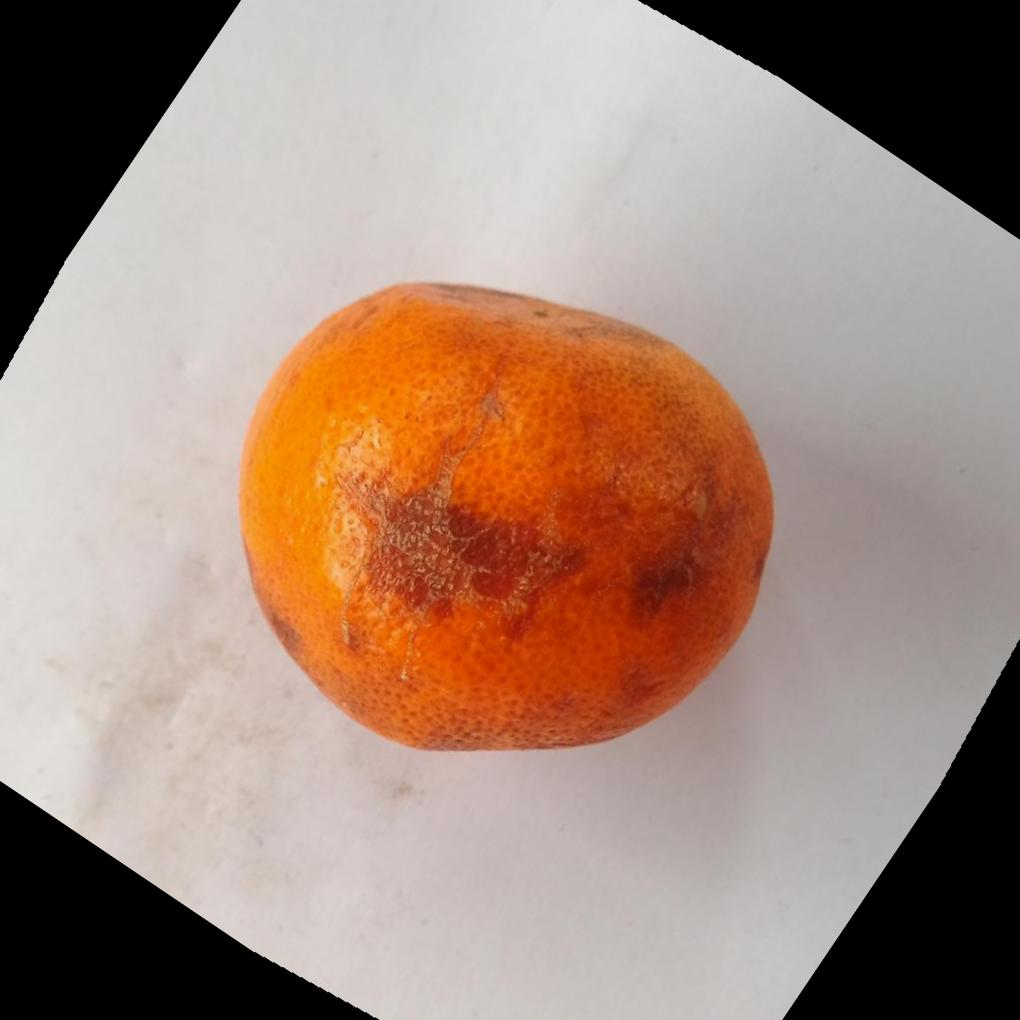FreshOrange: (238, 276, 778, 750)
